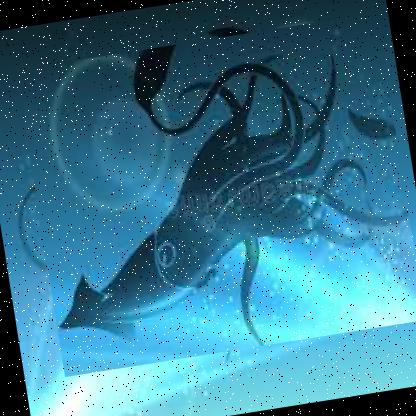colossal_squid: (16, 11, 415, 377)
